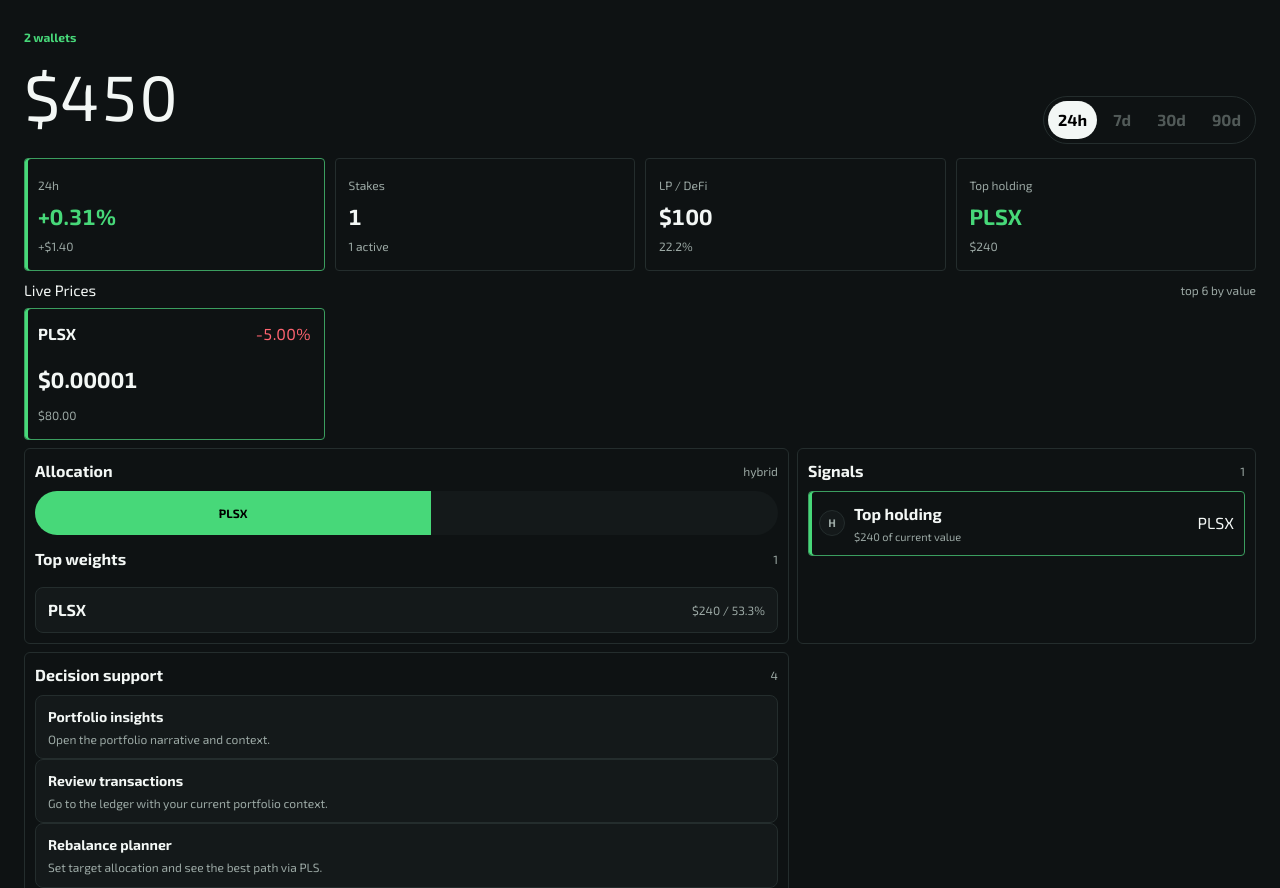
Test: atlas home surface › opens the exact allocation detail when an allocation segment is clicked
The width and height of the screenshot is (1280, 888).
Step 1. Click the button with aria-label "PLSX allocation" → (233, 512), box [35, 490, 431, 534]
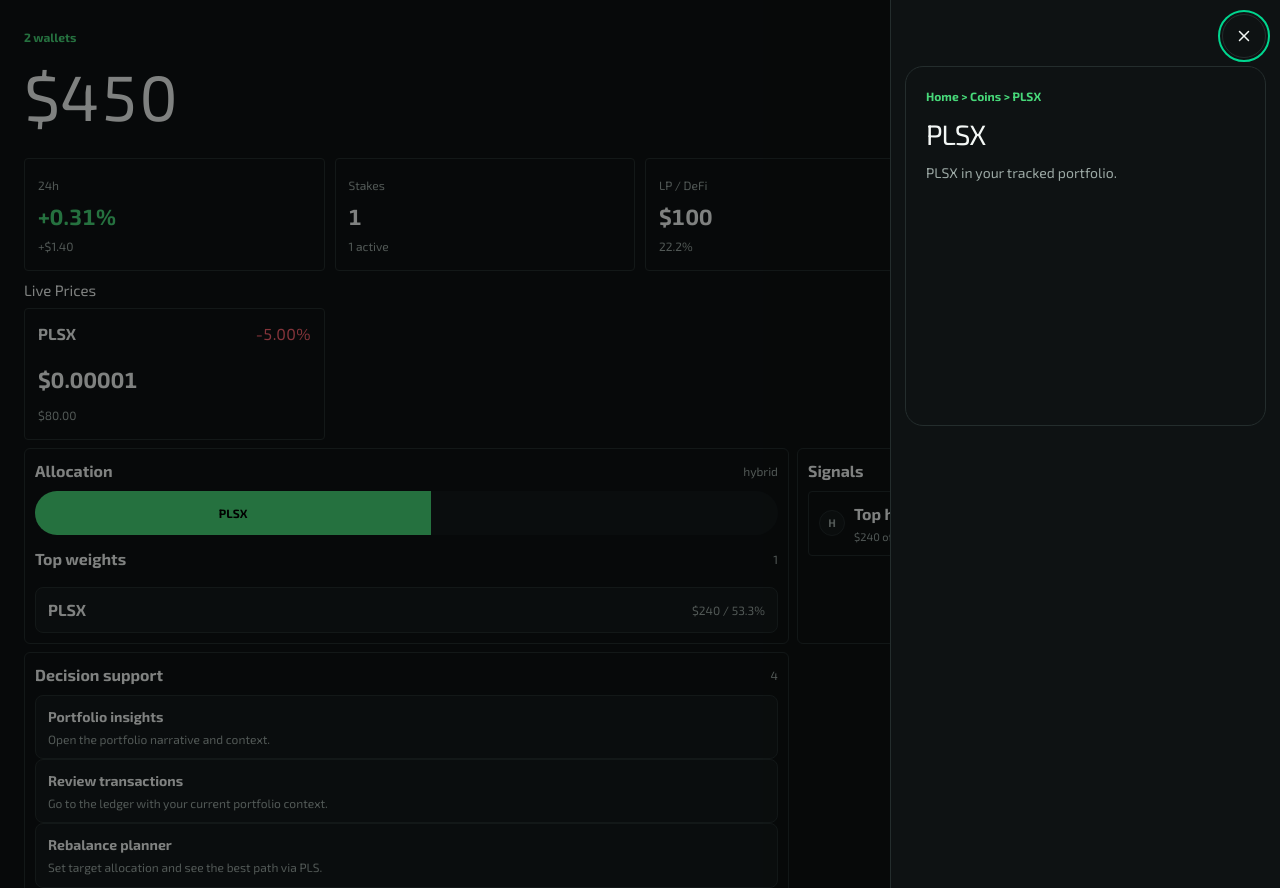
Now the heading "PLSX" is shown, box [926, 117, 985, 151]
